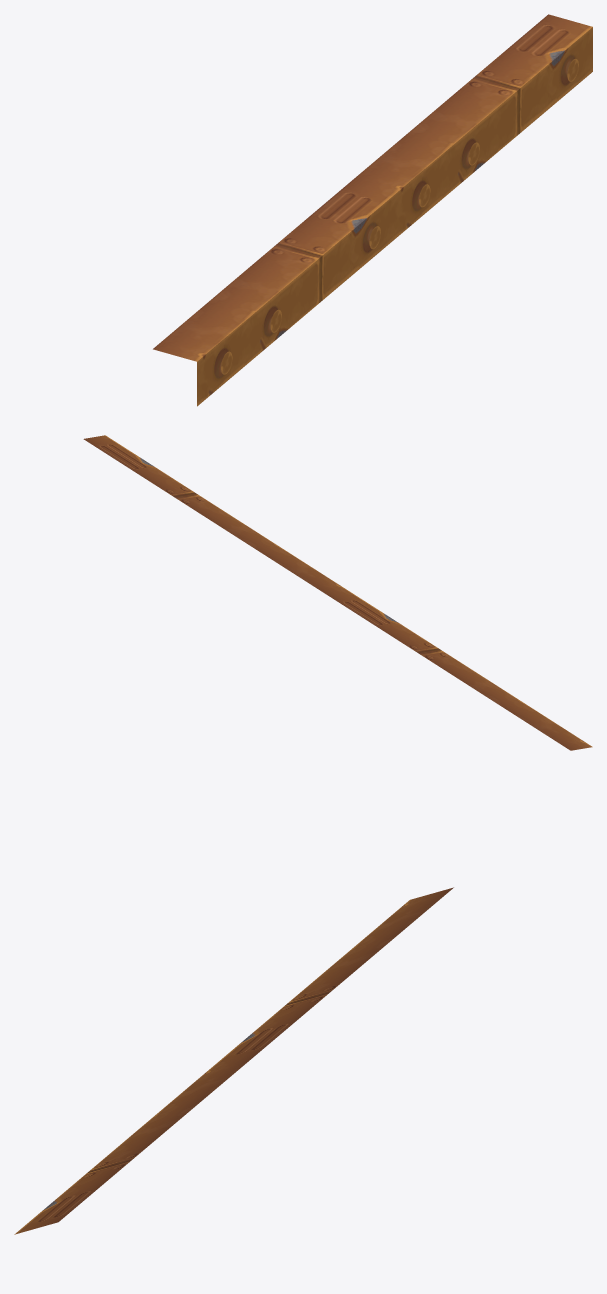
File: rail_faux_eastside.glb
3 views of the same model, one above another, from view 1: azimuth 90°, elevation 25°; view 2: azimuth 150°, elevation 25°; view 3: azimuth 270°, elevation 25° (orthographic).
Visible parts, largest first — view 1: arcade.rail_faux_eastside-Mesh[0], arcade.rail_faux_eastside-Mesh[1]; view 2: arcade.rail_faux_eastside-Mesh[0]; view 3: arcade.rail_faux_eastside-Mesh[0].
Boxes of the visible parts, x1=… form: arcade.rail_faux_eastside-Mesh[0]: x1=153, y1=14, x2=592, y2=406; arcade.rail_faux_eastside-Mesh[1]: x1=221, y1=58, x2=578, y2=374; arcade.rail_faux_eastside-Mesh[0]: x1=83, y1=435, x2=592, y2=750; arcade.rail_faux_eastside-Mesh[0]: x1=14, y1=887, x2=453, y2=1234.
Bounding box in the file's own units: 8.01 × 0.64 × 5.85.
Materials: 2 (2 with a texture image).
